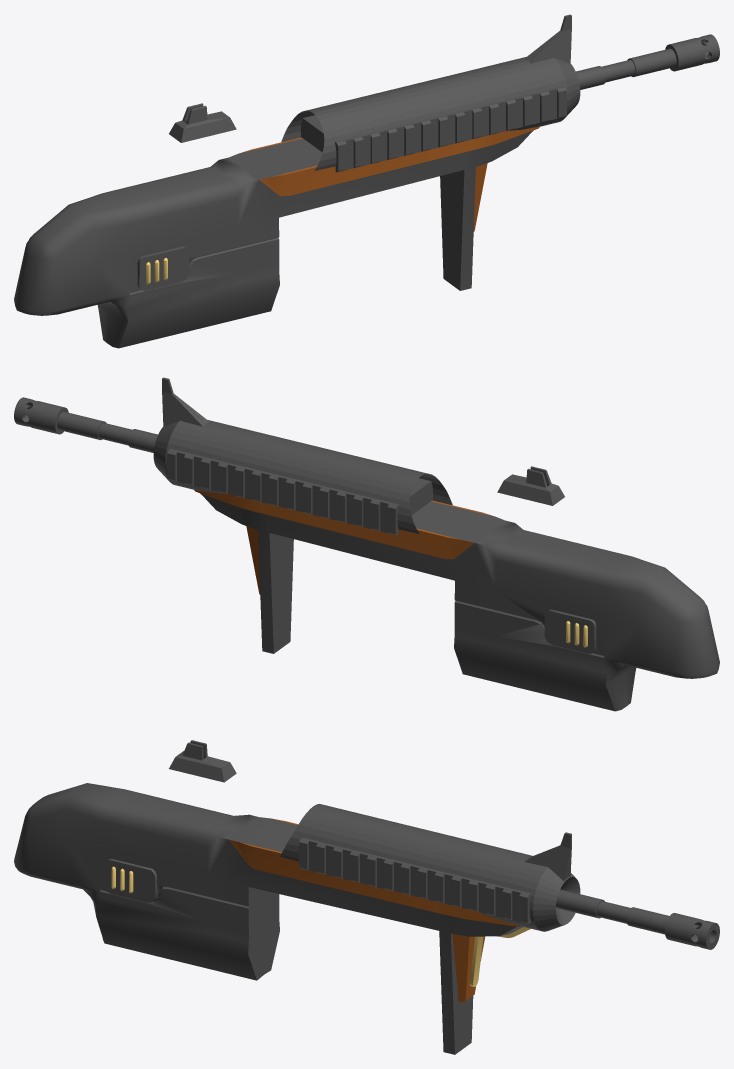
The model's file is Artefact_Riffle.fbx.
3 renders of one model, top to bottom at view 1: azimuth 30°, elevation 25°; view 2: azimuth 150°, elevation 25°; view 3: azimuth 330°, elevation 25°, orthographic.
Parts seen in each view (by area): view 1: main body, artefact rifle; view 2: main body, artefact rifle; view 3: main body, artefact rifle.
Boxes of the visible parts, left/top/right/bottom form: main body: left=14, top=126, right=539, bottom=348; artefact rifle: left=169, top=14, right=719, bottom=172; main body: left=194, top=489, right=719, bottom=711; artefact rifle: left=14, top=377, right=564, bottom=535; main body: left=14, top=783, right=556, bottom=1054; artefact rifle: left=169, top=740, right=719, bottom=949.
Bounding box in the file's own units: 321 × 106 × 31.3.
